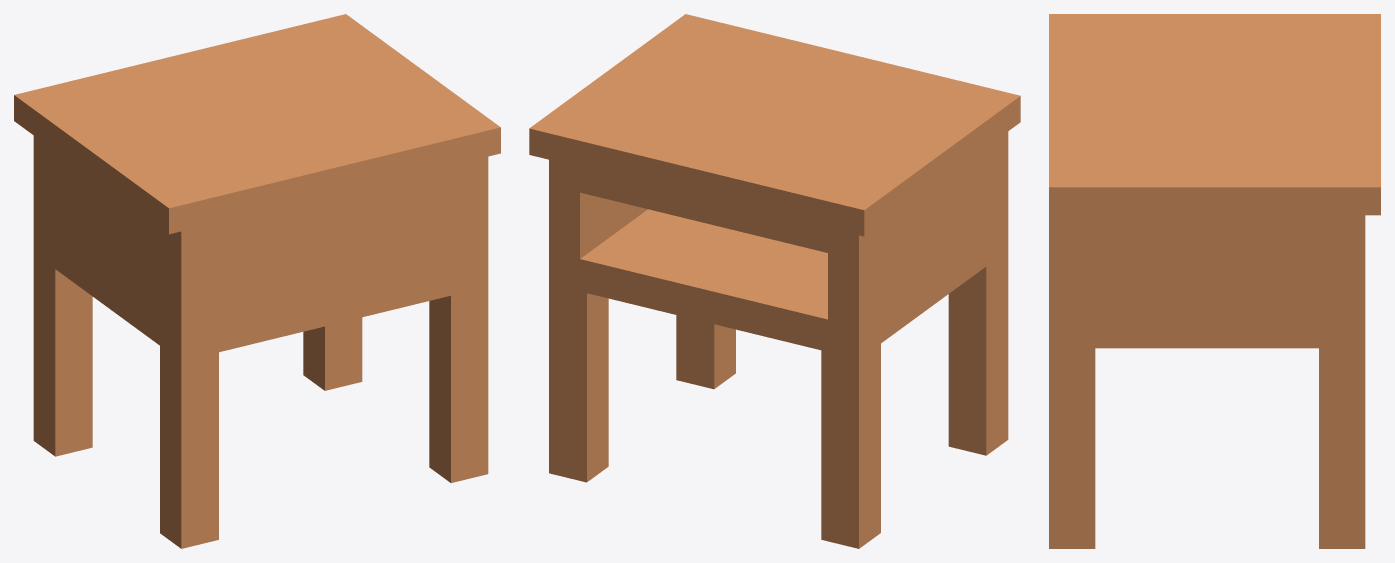
Rendered from CabinetBedDrawerTable.glb.
3 renders of one model, left to right at view 1: azimuth 30°, elevation 25°; view 2: azimuth 150°, elevation 25°; view 3: azimuth 270°, elevation 25°, orthographic. The views are drawn at different scales.
Visible parts, largest first — view 1: CabinetBedDrawerTable; view 2: CabinetBedDrawerTable; view 3: CabinetBedDrawerTable.
Boxes of the visible parts, <box> form: CabinetBedDrawerTable: <box>14,14,500,548</box>; CabinetBedDrawerTable: <box>529,14,1020,548</box>; CabinetBedDrawerTable: <box>1049,14,1380,548</box>.
Bounding box in the file's own units: 0.827 × 0.8183 × 0.6685.
